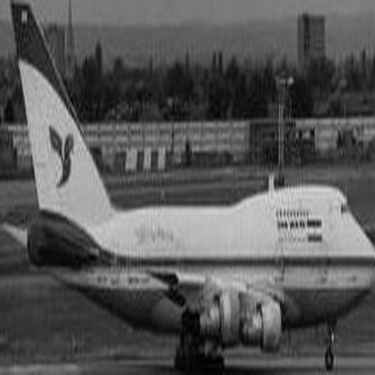airplane: (4, 4, 371, 373), (10, 22, 365, 353)
